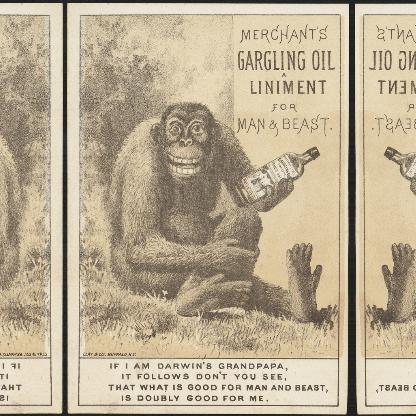Monkey: (112, 102, 320, 322)
